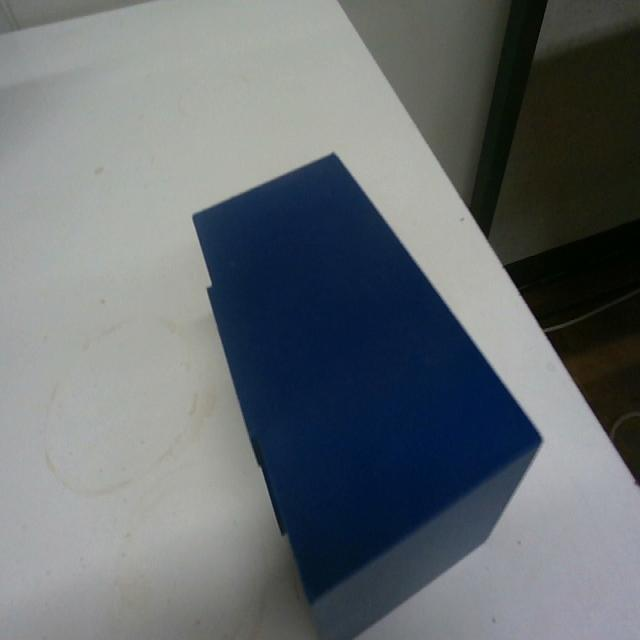Blue Cuboid: (189, 148, 544, 637)
